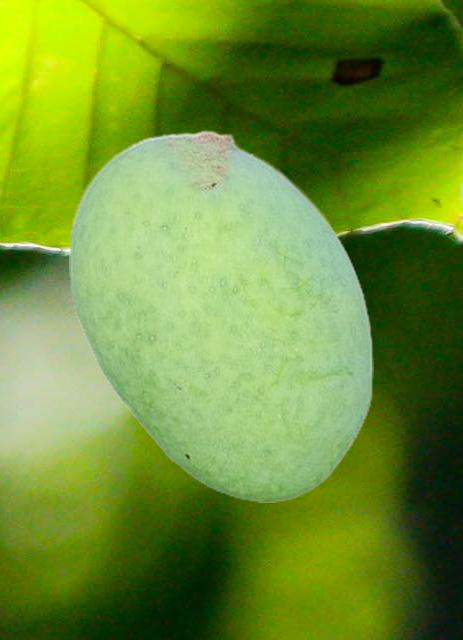green_mango: (69, 129, 372, 501)
